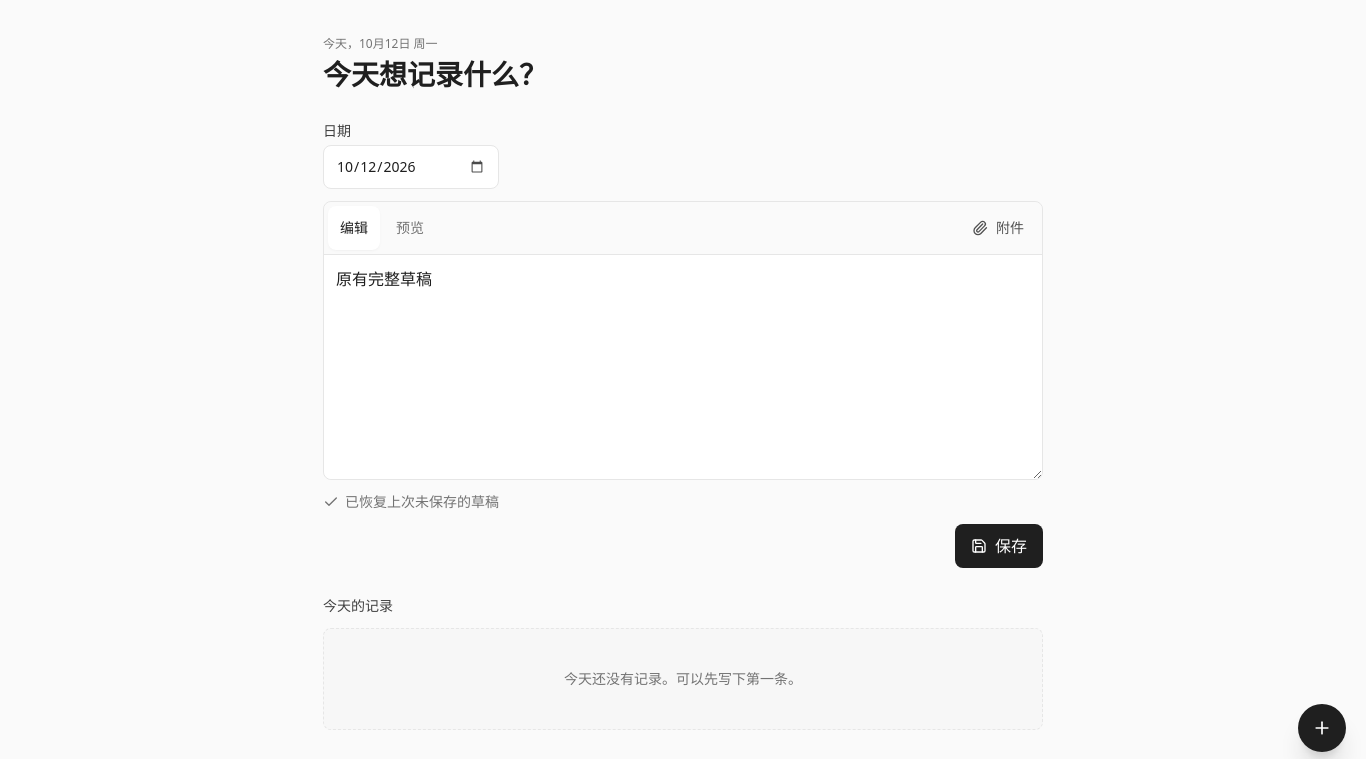
Test case: QuickCapture › keeps both drafts and explains why an existing home draft blocks the handoff
Step 1. Click the button named "速记" → (1322, 728), box [1298, 704, 1346, 752]
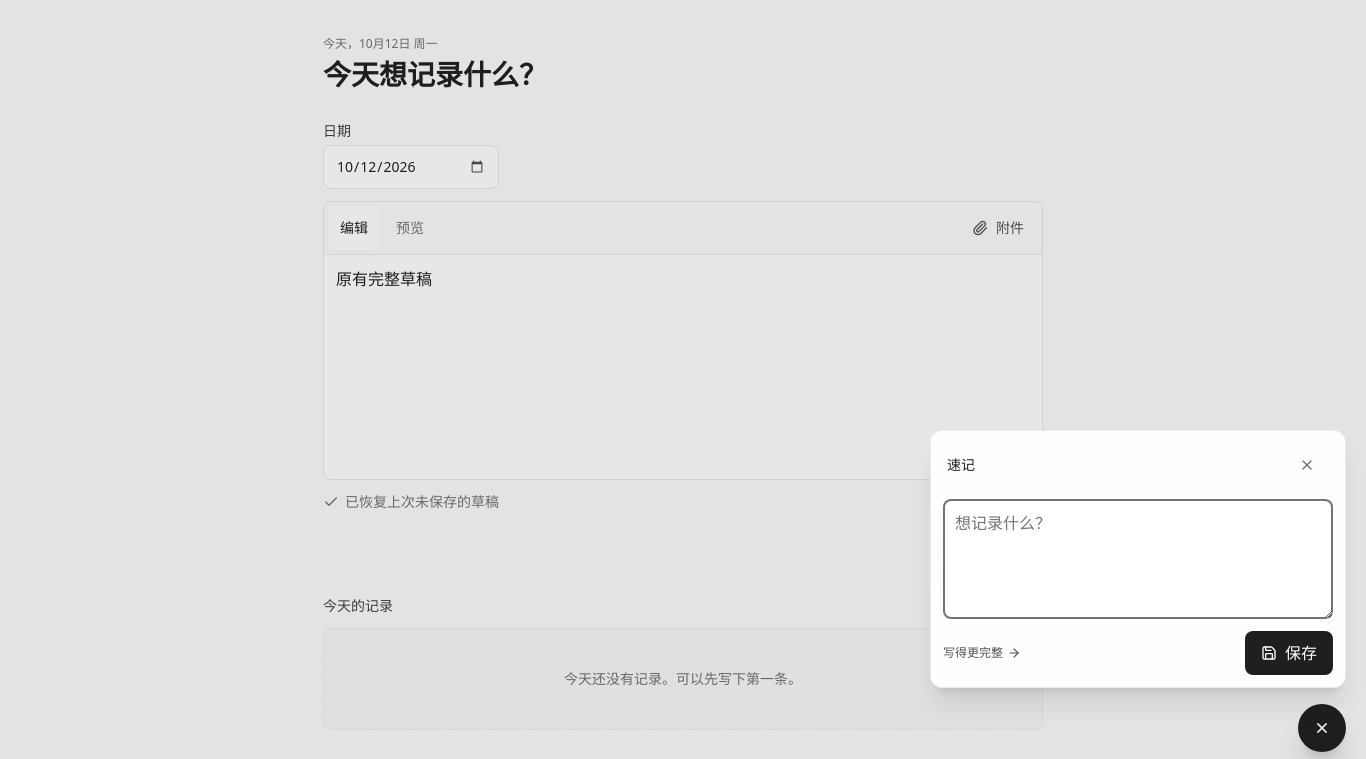
Step 2. Type "另一个速记" into the text box named "速记内容" → (1138, 559), box [943, 499, 1333, 619]
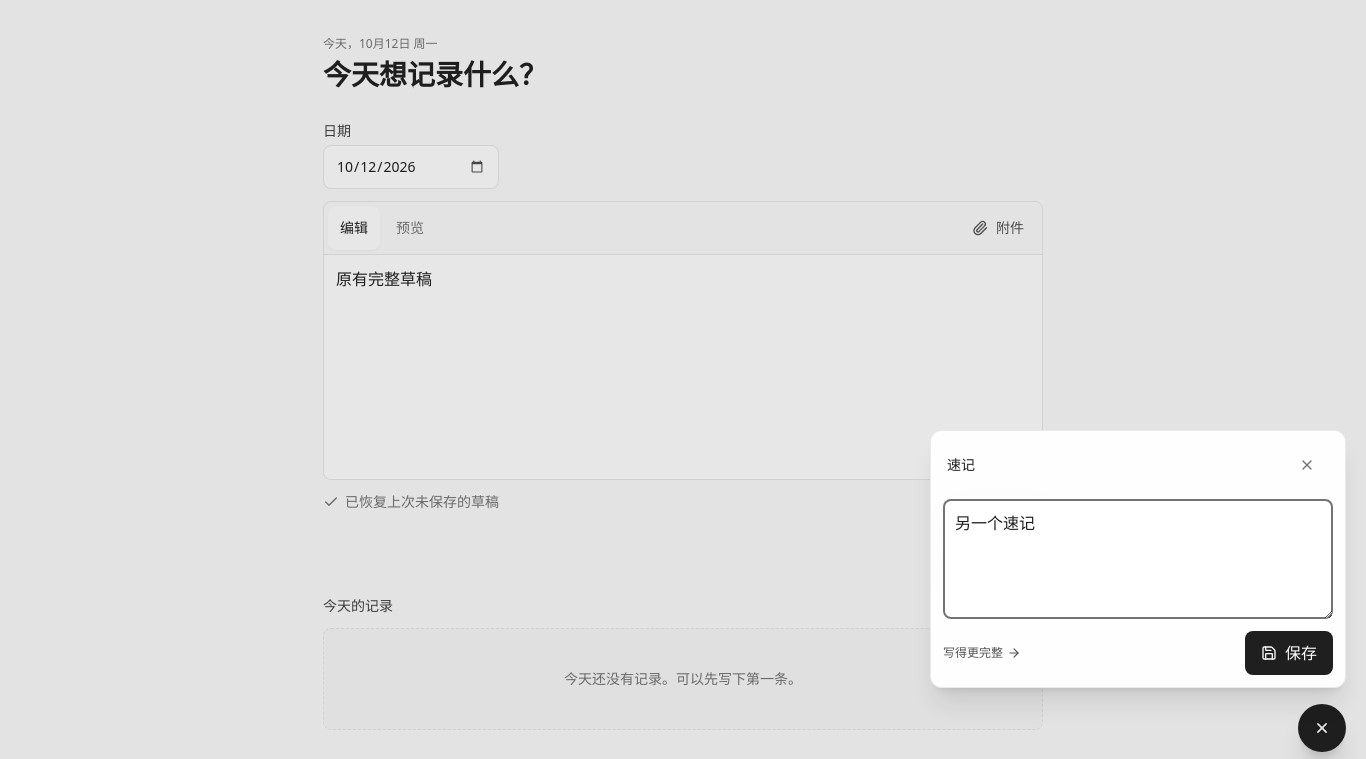
Step 3. Click the link "写得更完整" → (982, 652), box [943, 644, 1021, 661]
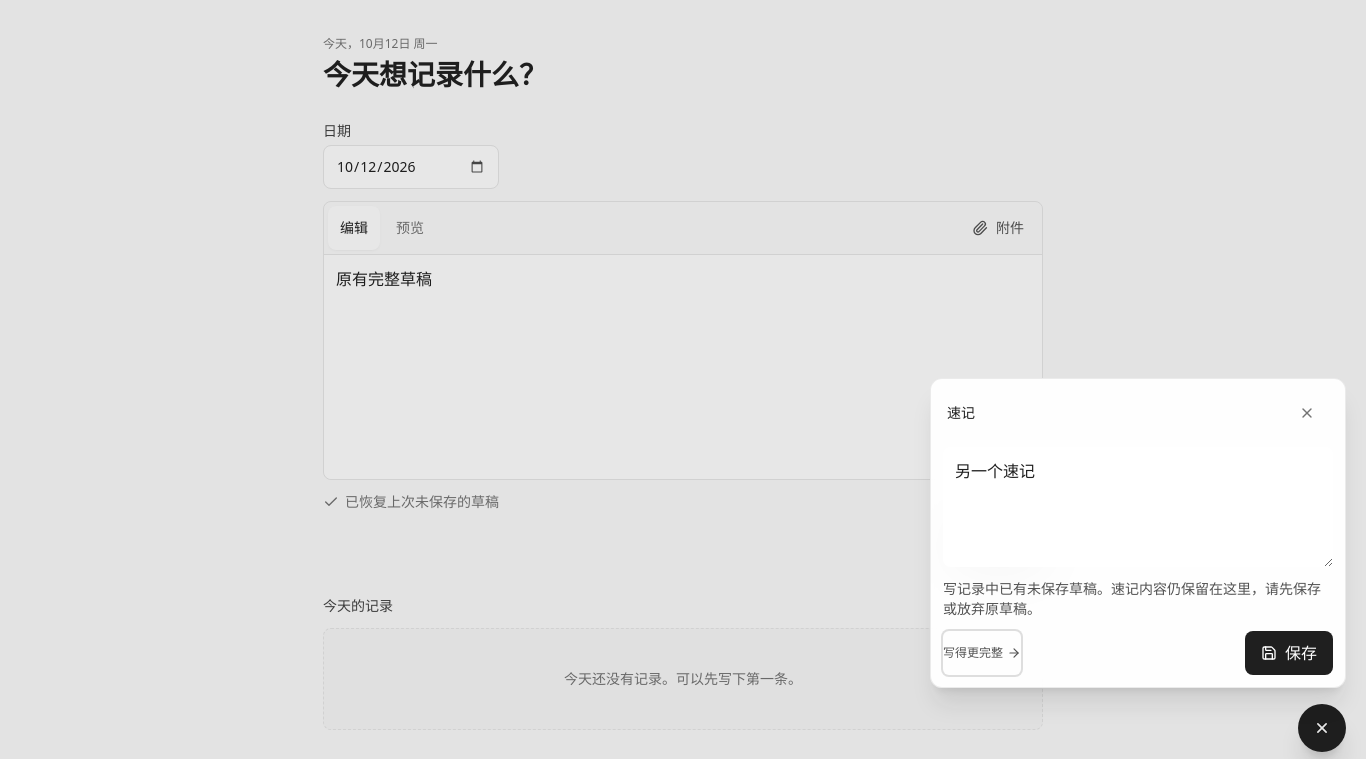
Expected: the text box named "记录内容" below "日期" holds "原有完整草稿", [324, 255, 1042, 479]
Expected: the message shows "写记录中已有未保存草稿", [943, 579, 1321, 618]
